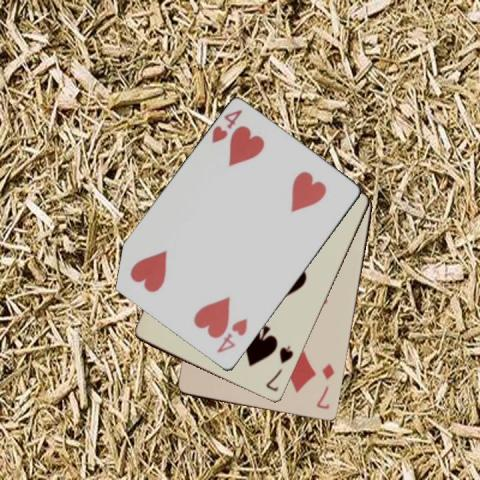4h: (214, 316, 250, 356), (209, 107, 244, 145)
7d: (314, 361, 336, 411)
7s: (263, 343, 295, 393)
